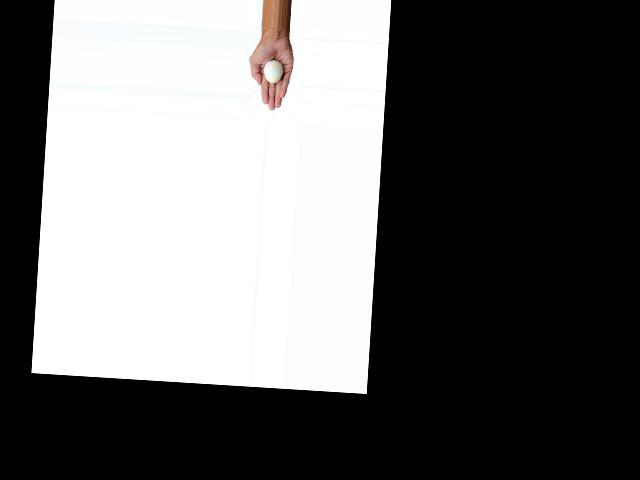egg: (263, 59, 283, 84)
